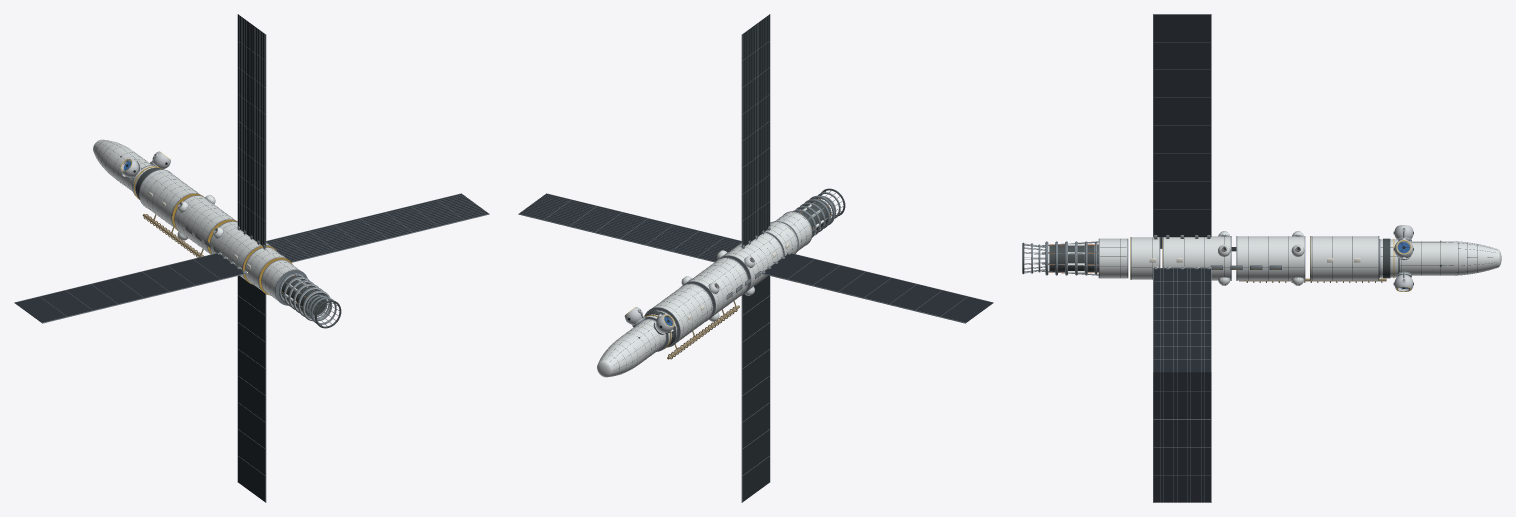
Rendered from earth.glb.
3 views of the same model, side by side, from view 1: azimuth 30°, elevation 25°; view 2: azimuth 150°, elevation 25°; view 3: azimuth 270°, elevation 25° (orthographic). The views are drawn at different scales.
Parts seen in each view (by area): view 1: B_Pale_aerospace_protective_panels, Rad_RadPivot1_Graphite_carbon-carbon_radiator_fins, Rad_RadPivot3_Graphite_carbon-carbon_radiator_fins, Rad_RadPivot2_Graphite_carbon-carbon_radiator_fins, Rad_RadPivot0_Graphite_carbon-carbon_radiator_fins, Rad_RadPivot1_Titanium_hardware_—_appearance_only, Rad_RadPivot0_Titanium_hardware_—_appearance_only, A_Titanium_hardware_—_appearance_only, N_Pale_aerospace_protective_panels, B_Titanium_hardware_—_appearance_only, Rad_RadPivot3_Titanium_hardware_—_appearance_only, A_Shadow-shield_casing (+3 smaller); view 2: B_Pale_aerospace_protective_panels, Rad_RadPivot1_Graphite_carbon-carbon_radiator_fins, Rad_RadPivot3_Graphite_carbon-carbon_radiator_fins, Rad_RadPivot2_Graphite_carbon-carbon_radiator_fins, Rad_RadPivot0_Graphite_carbon-carbon_radiator_fins, Rad_RadPivot1_Titanium_hardware_—_appearance_only, Rad_RadPivot0_Titanium_hardware_—_appearance_only, N_Pale_aerospace_protective_panels, B_Titanium_hardware_—_appearance_only, A_Titanium_hardware_—_appearance_only, Rad_RadPivot3_Titanium_hardware_—_appearance_only, Rad_RadPivot2_Titanium_hardware_—_appearance_only (+2 smaller); view 3: Rad_RadPivot1_Graphite_carbon-carbon_radiator_fins, B_Pale_aerospace_protective_panels, Rad_RadPivot3_Graphite_carbon-carbon_radiator_fins, Rad_RadPivot0_Graphite_carbon-carbon_radiator_fins, N_Pale_aerospace_protective_panels, Rad_RadPivot3_Titanium_hardware_—_appearance_only, Rad_RadPivot0_Titanium_hardware_—_appearance_only, A_Titanium_hardware_—_appearance_only, B_Shadow-shield_casing, B_Titanium_hardware_—_appearance_only, A_Shadow-shield_casing, Rad_RadPivot1_Titanium_hardware_—_appearance_only.
Part boxes in pixels (x1=…): B_Pale_aerospace_protective_panels: x1=132, y1=165, x2=299, y2=300; Rad_RadPivot1_Graphite_carbon-carbon_radiator_fins: x1=238, y1=14, x2=265, y2=245; Rad_RadPivot3_Graphite_carbon-carbon_radiator_fins: x1=238, y1=275, x2=265, y2=501; Rad_RadPivot2_Graphite_carbon-carbon_radiator_fins: x1=15, y1=253, x2=243, y2=322; Rad_RadPivot0_Graphite_carbon-carbon_radiator_fins: x1=266, y1=193, x2=488, y2=261; Rad_RadPivot1_Titanium_hardware_—_appearance_only: x1=237, y1=14, x2=266, y2=249; Rad_RadPivot0_Titanium_hardware_—_appearance_only: x1=266, y1=193, x2=489, y2=262; A_Titanium_hardware_—_appearance_only: x1=275, y1=269, x2=339, y2=326; N_Pale_aerospace_protective_panels: x1=93, y1=139, x2=157, y2=191; B_Titanium_hardware_—_appearance_only: x1=132, y1=165, x2=292, y2=294; Rad_RadPivot3_Titanium_hardware_—_appearance_only: x1=237, y1=276, x2=266, y2=502; A_Shadow-shield_casing: x1=281, y1=276, x2=341, y2=328; B_Pale_aerospace_protective_panels: x1=645, y1=212, x2=811, y2=346; Rad_RadPivot1_Graphite_carbon-carbon_radiator_fins: x1=742, y1=14, x2=769, y2=245; Rad_RadPivot3_Graphite_carbon-carbon_radiator_fins: x1=742, y1=275, x2=769, y2=501; Rad_RadPivot2_Graphite_carbon-carbon_radiator_fins: x1=764, y1=253, x2=992, y2=322; Rad_RadPivot0_Graphite_carbon-carbon_radiator_fins: x1=519, y1=193, x2=741, y2=261; Rad_RadPivot1_Titanium_hardware_—_appearance_only: x1=741, y1=14, x2=770, y2=248; Rad_RadPivot0_Titanium_hardware_—_appearance_only: x1=518, y1=193, x2=741, y2=262; N_Pale_aerospace_protective_panels: x1=597, y1=317, x2=665, y2=377; B_Titanium_hardware_—_appearance_only: x1=644, y1=221, x2=798, y2=351; A_Titanium_hardware_—_appearance_only: x1=783, y1=190, x2=843, y2=244; Rad_RadPivot3_Titanium_hardware_—_appearance_only: x1=741, y1=276, x2=770, y2=502; Rad_RadPivot2_Titanium_hardware_—_appearance_only: x1=761, y1=252, x2=993, y2=323; Rad_RadPivot1_Graphite_carbon-carbon_radiator_fins: x1=1153, y1=14, x2=1210, y2=236; B_Pale_aerospace_protective_panels: x1=1099, y1=231, x2=1397, y2=284; Rad_RadPivot3_Graphite_carbon-carbon_radiator_fins: x1=1153, y1=372, x2=1210, y2=502; Rad_RadPivot0_Graphite_carbon-carbon_radiator_fins: x1=1153, y1=268, x2=1210, y2=372; N_Pale_aerospace_protective_panels: x1=1396, y1=237, x2=1501, y2=277; Rad_RadPivot3_Titanium_hardware_—_appearance_only: x1=1153, y1=372, x2=1211, y2=502; Rad_RadPivot0_Titanium_hardware_—_appearance_only: x1=1153, y1=267, x2=1211, y2=372; A_Titanium_hardware_—_appearance_only: x1=1024, y1=238, x2=1099, y2=278; B_Shadow-shield_casing: x1=1100, y1=234, x2=1397, y2=280; B_Titanium_hardware_—_appearance_only: x1=1127, y1=231, x2=1398, y2=285; A_Shadow-shield_casing: x1=1022, y1=242, x2=1098, y2=274; Rad_RadPivot1_Titanium_hardware_—_appearance_only: x1=1153, y1=14, x2=1211, y2=239.
Size of the model in its own units: 219 by 219 by 195.
